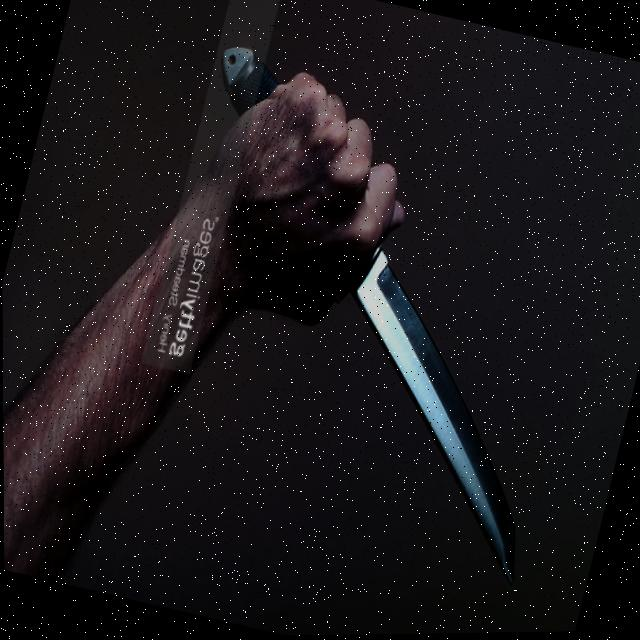knife: (272, 209, 595, 594)
